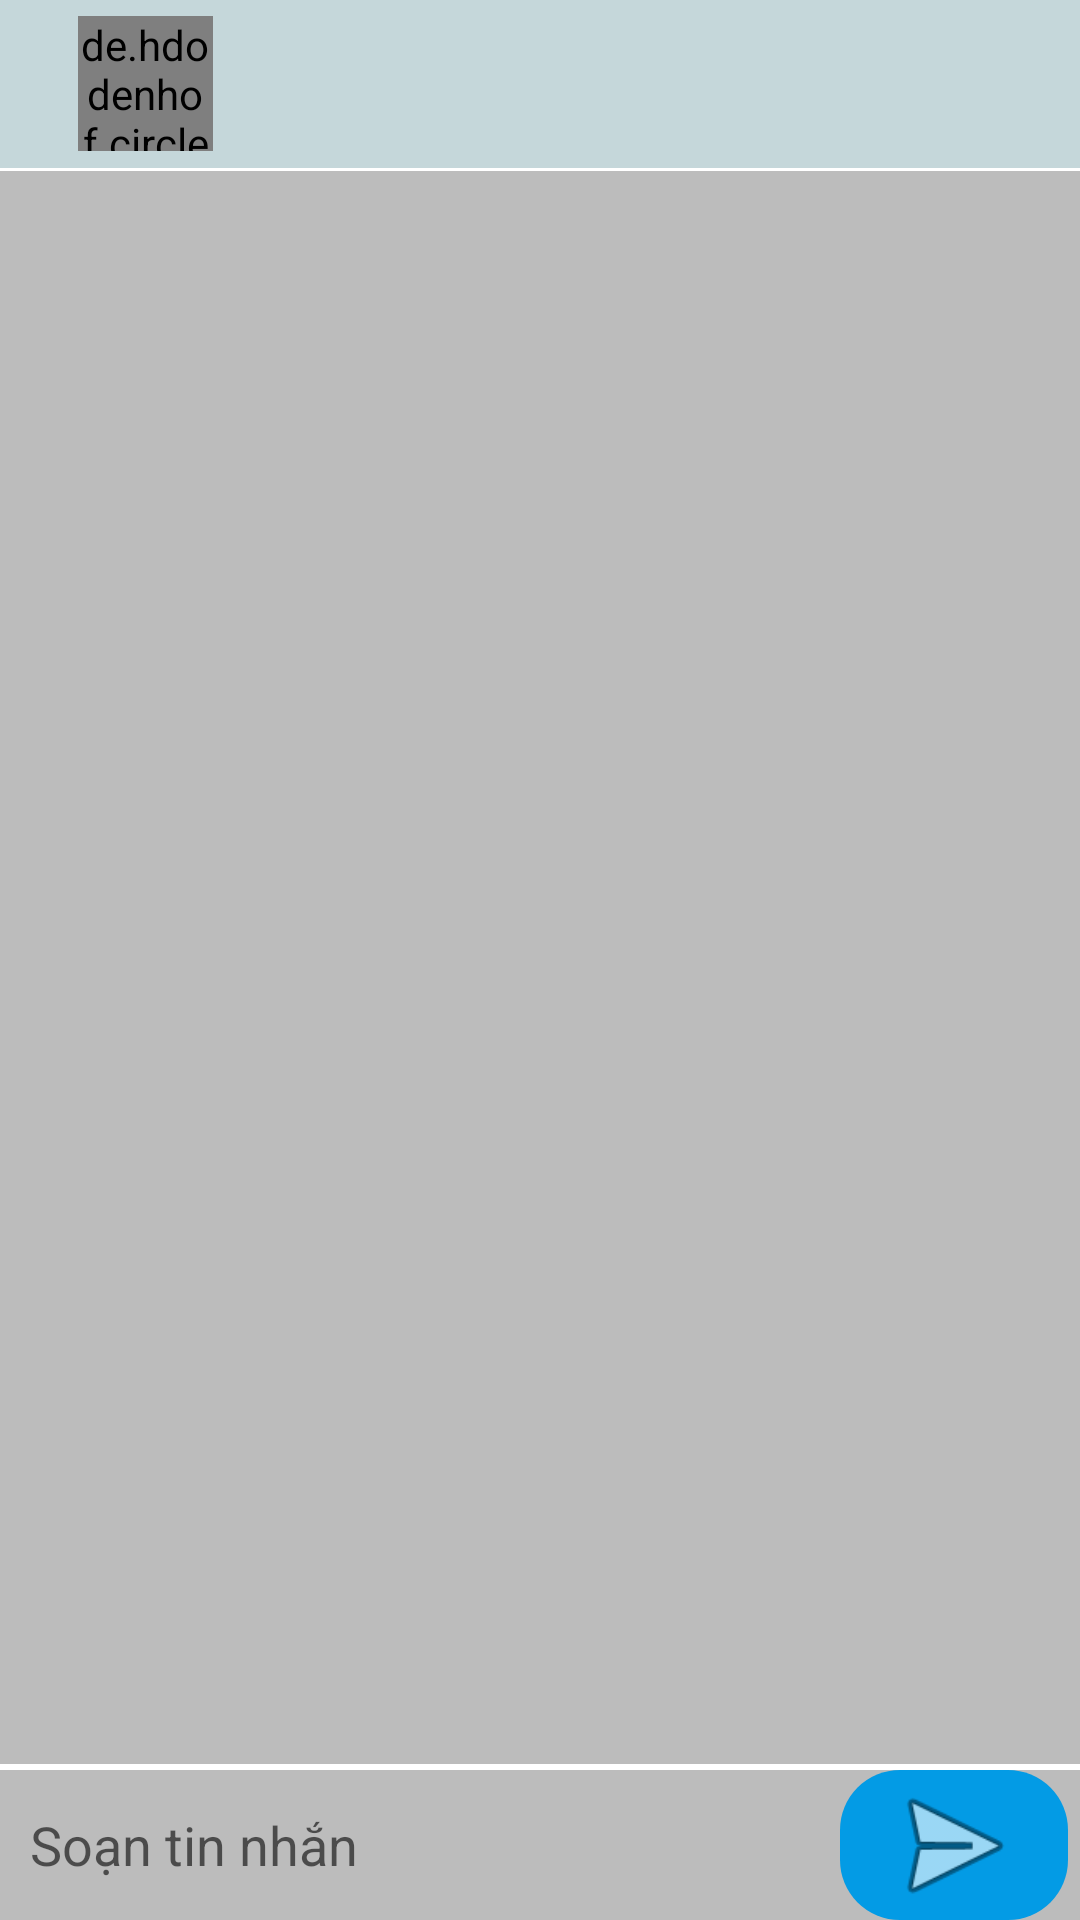

Named icons in this screenshot (1080px×1920px) and their centers, (x,y):
send: (954,1845)
